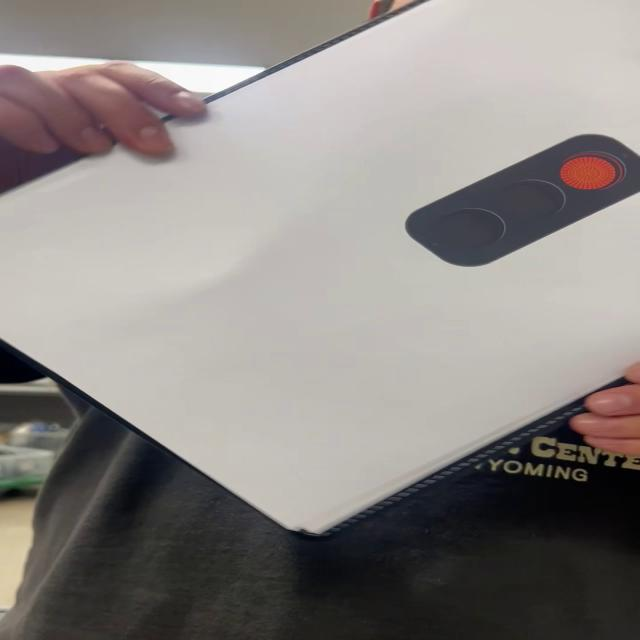red: (399, 134, 640, 270)
